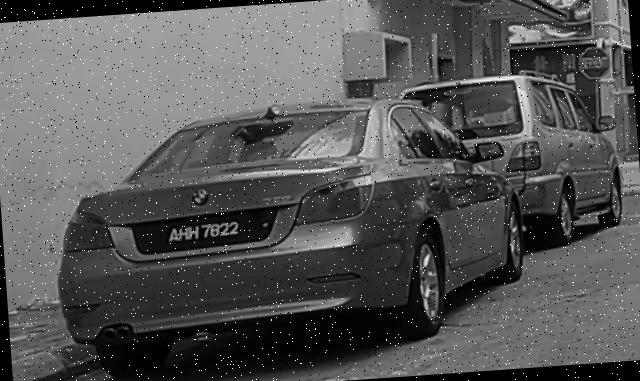License_Plate: (159, 221, 246, 245)
car: (47, 86, 534, 381)
